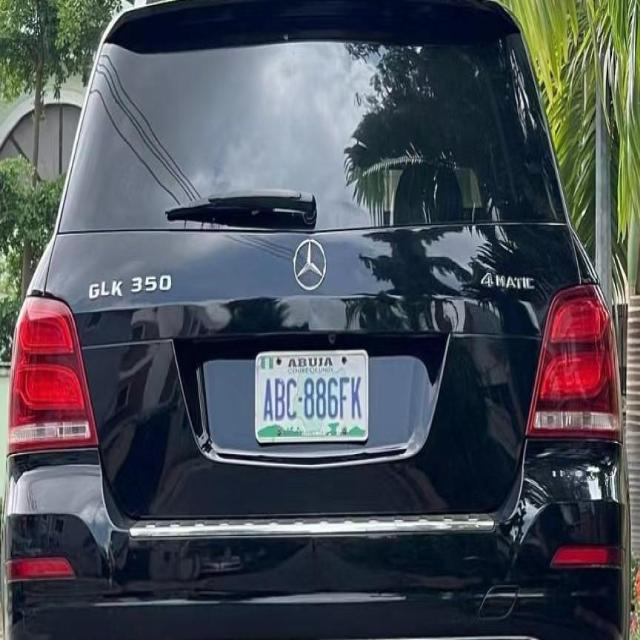Nigerian License Plate - vdataset benjamin-daria: (252, 344, 372, 445)
